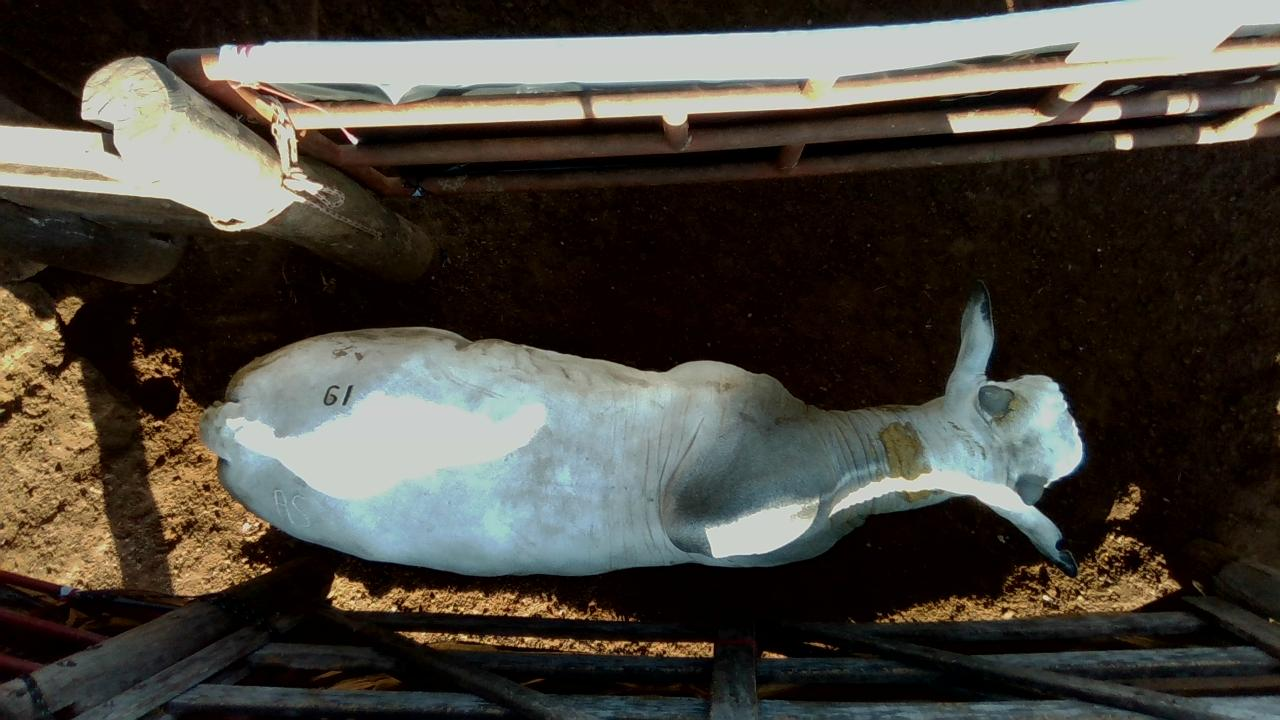cattle: (198, 279, 1085, 580)
